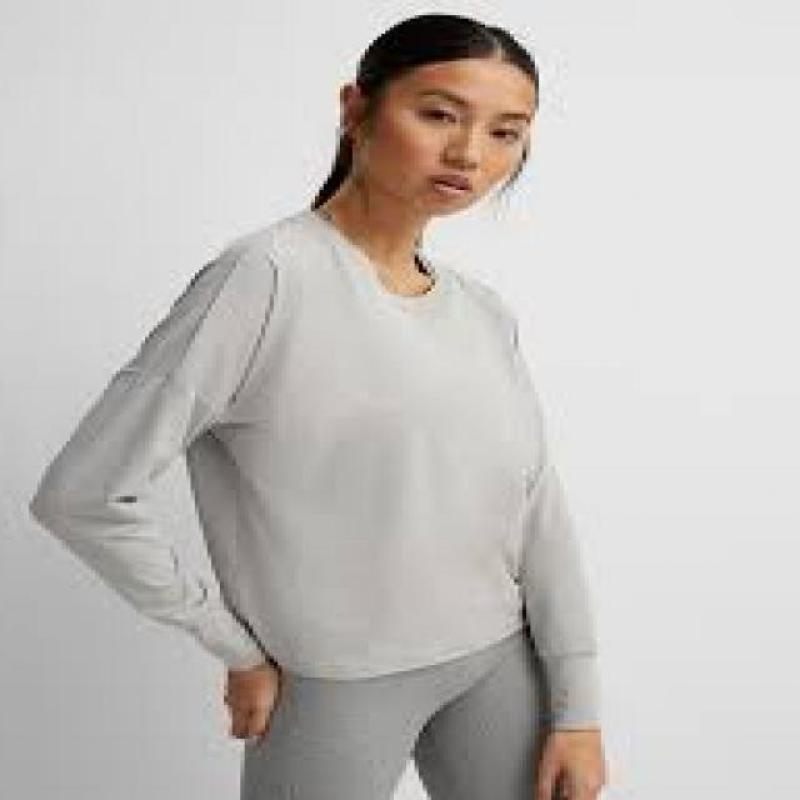sweater: (26, 209, 606, 732)
trousers: (238, 623, 557, 800)
